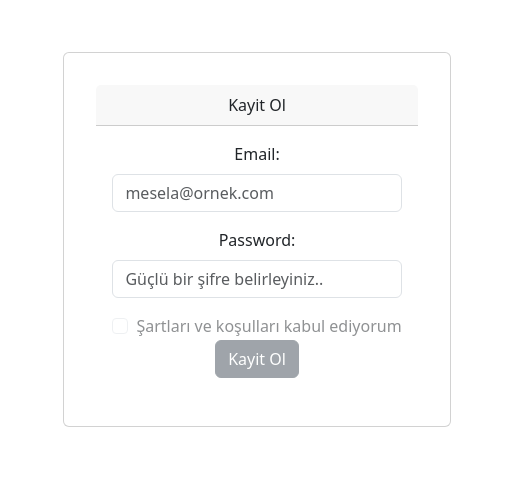
Test: Login sayfası hatalı form doldurulduğunda › Email ve Password yanlış durumu
Type "test" into the field with test id "email-input" at point(257, 193), box [112,174,401,212]
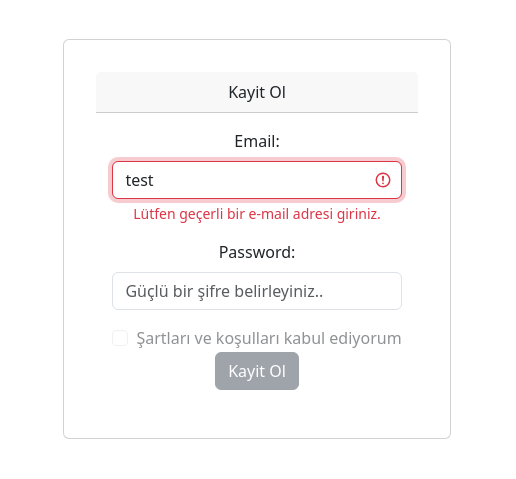
Type "123" into the password field with test id "password-input" at point(257, 291), box [112,272,401,310]
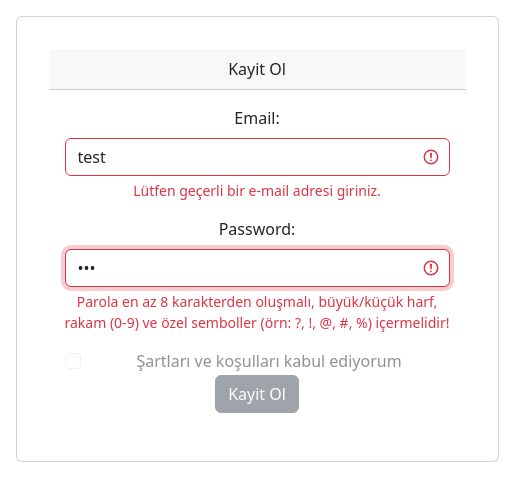
expect the number of elements with class "invalid-feedback" is 2: met, box [133,181,381,200]; [64,291,450,333]
